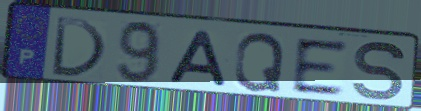9: (113, 19, 163, 88)
A: (163, 28, 231, 88)
D: (48, 14, 109, 80)
E: (291, 37, 350, 96)
Q: (231, 31, 287, 93)
S: (350, 39, 408, 104)
